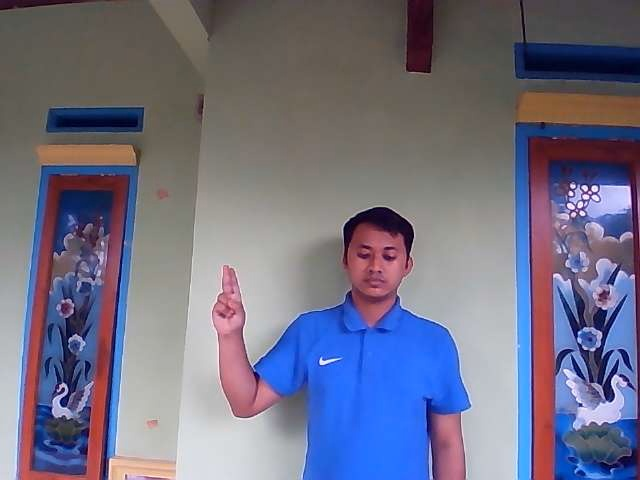U: (210, 263, 247, 333)
